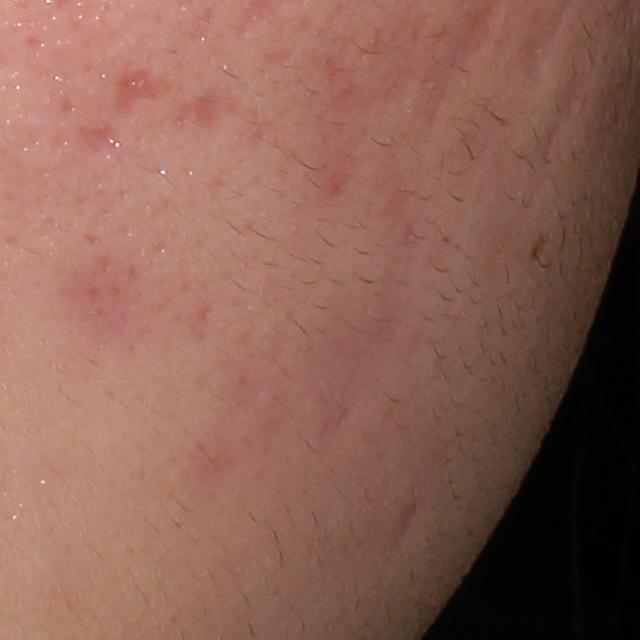atrophic_scar: (298, 196, 440, 455), (322, 45, 412, 203), (543, 14, 605, 162), (381, 467, 431, 576), (122, 63, 184, 128), (173, 86, 238, 134), (72, 121, 124, 162)
